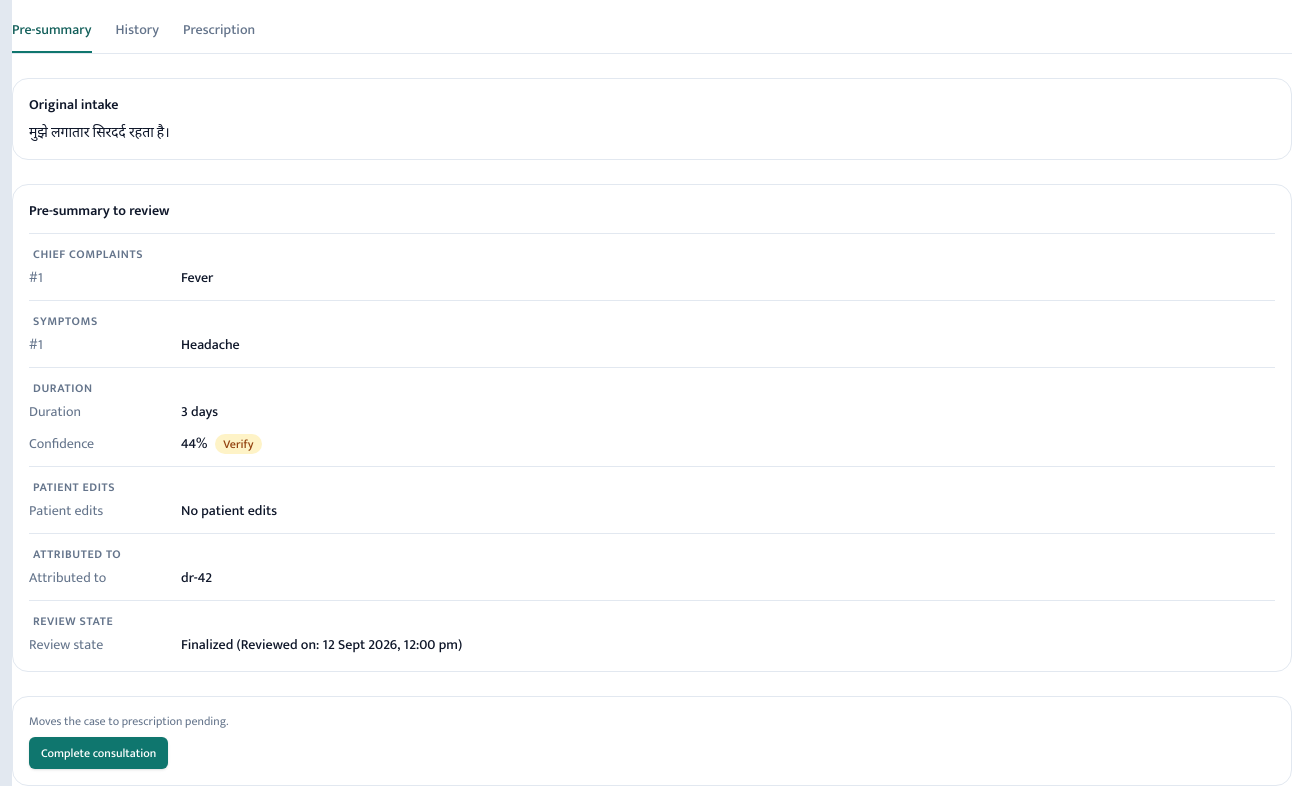
Test: CaseWorkspacePage handshake (US-24) › completes the consultation and moves the case to prescription pending
The width and height of the screenshot is (1292, 786).
(page scrolled)
Click the button with test id "handshake-action" at (99, 753), box x1=29 y1=737 x2=168 y2=769
(page scrolled)
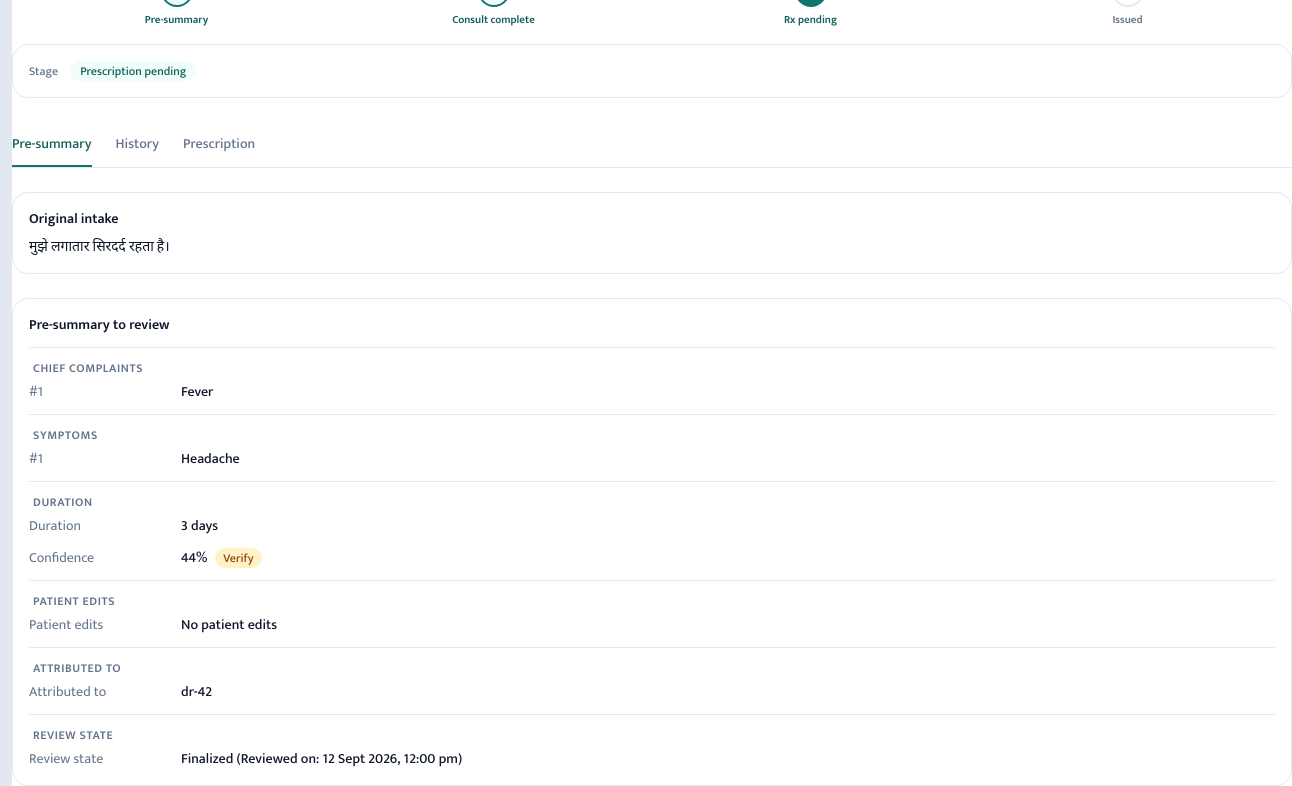
Result: the text with test id "stage-chip" reads "Prescription pending" at x1=80 y1=61 x2=186 y2=81
